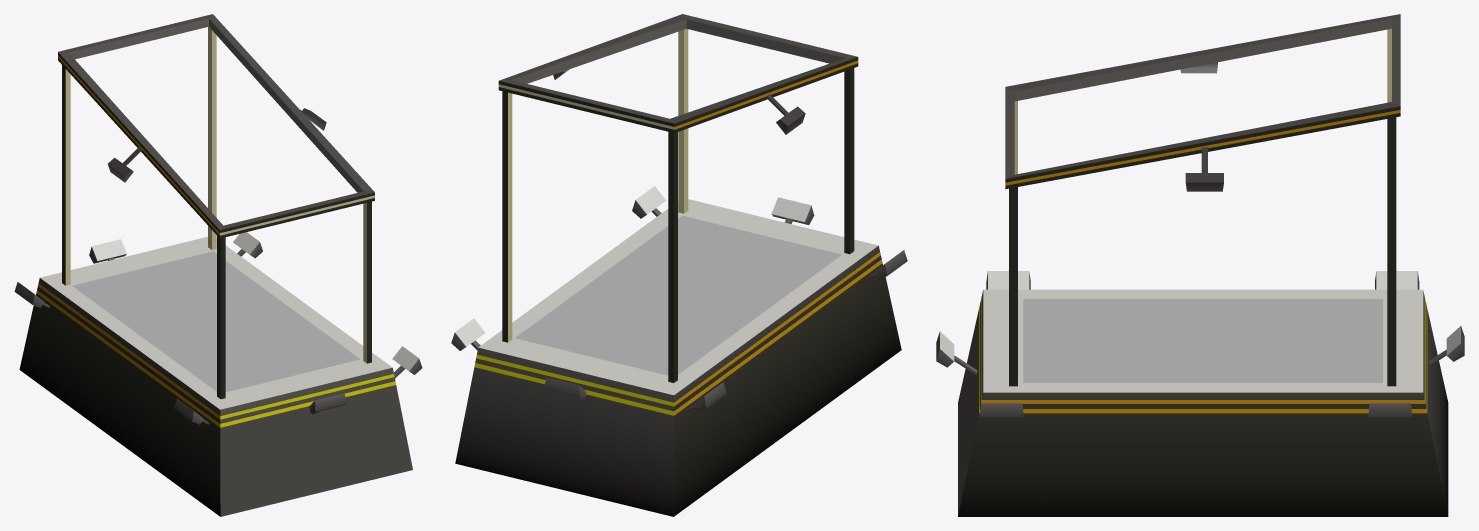
Rendered from car_showcase.glb.
3 views of the same model, side by side, from view 1: azimuth 30°, elevation 25°; view 2: azimuth 150°, elevation 25°; view 3: azimuth 270°, elevation 25° (orthographic). The views are drawn at different scales.
Visible parts, largest first — view 1: car_showcase; view 2: car_showcase; view 3: car_showcase.
Part boxes in pixels (x1,y1,x2,y2): car_showcase: (14,14,422,516); car_showcase: (451,14,907,516); car_showcase: (936,14,1464,516).
Bounding box in the file's own units: 1.21 × 1.66 × 1.99.
